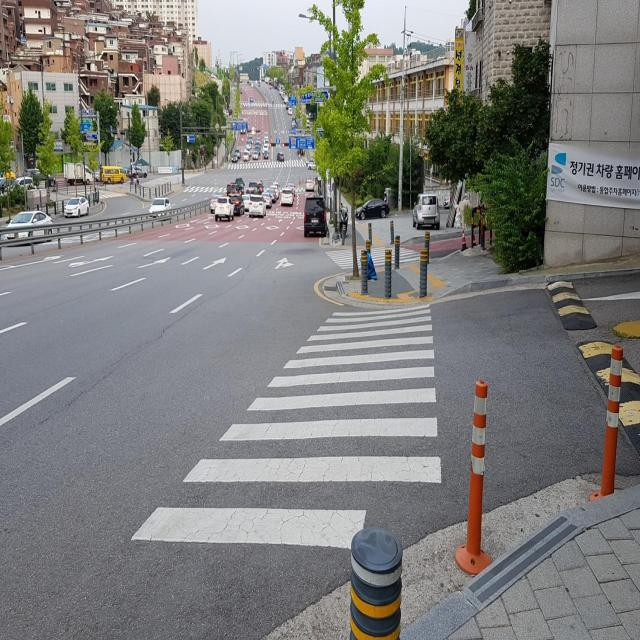횡단보도: (130, 303, 442, 551), (228, 156, 311, 174), (243, 98, 287, 113), (183, 186, 232, 196)
